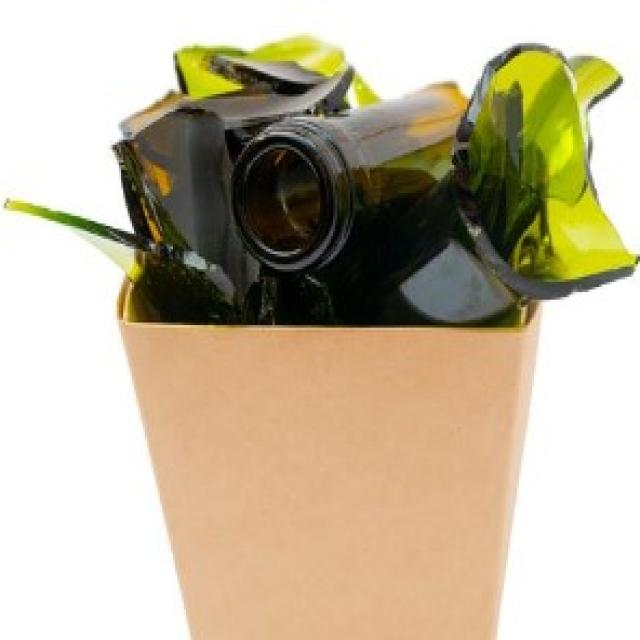electronic: (4, 22, 640, 315)
